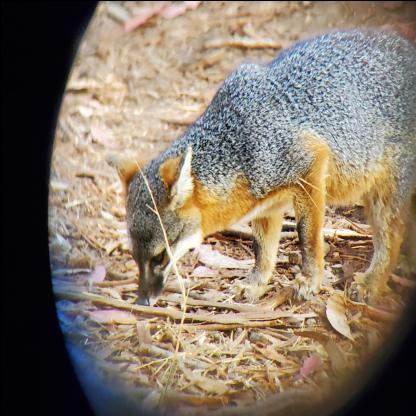zorro: (111, 24, 415, 325)
